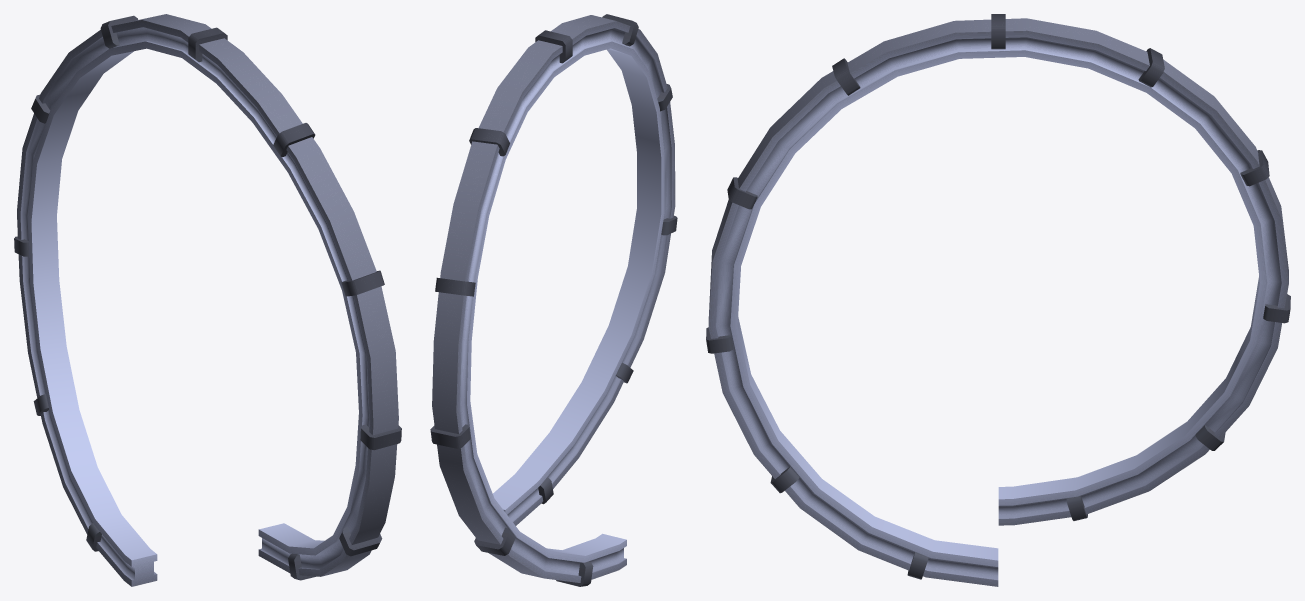
File: coaster-monorail-looping.glb
The picture shows the model from 3 angles, left to right: view 1: azimuth 30°, elevation 25°; view 2: azimuth 150°, elevation 25°; view 3: azimuth 270°, elevation 25°; orthographic projection. The views are drawn at different scales.
Parts seen in each view (by area): view 1: coaster-monorail-looping; view 2: coaster-monorail-looping; view 3: coaster-monorail-looping.
Part boxes in pixels (x1=…): coaster-monorail-looping: x1=14, y1=14, x2=401, y2=586; coaster-monorail-looping: x1=430, y1=14, x2=677, y2=586; coaster-monorail-looping: x1=706, y1=14, x2=1290, y2=586.
Bounding box in the file's own units: 1.21 × 4.03 × 4.03.
1 material, 1 textured.
